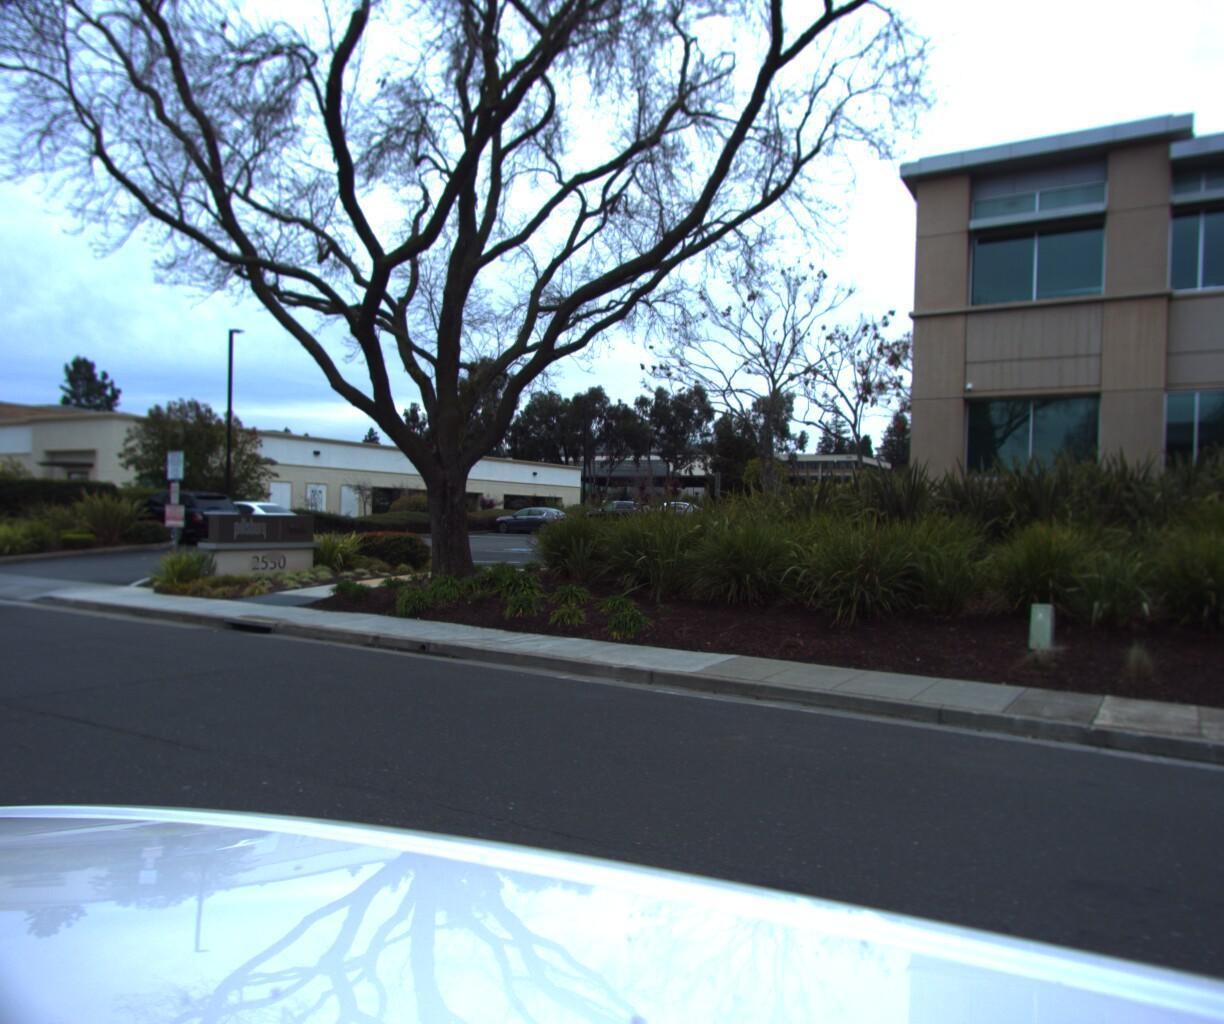car: (107, 490, 249, 546)
